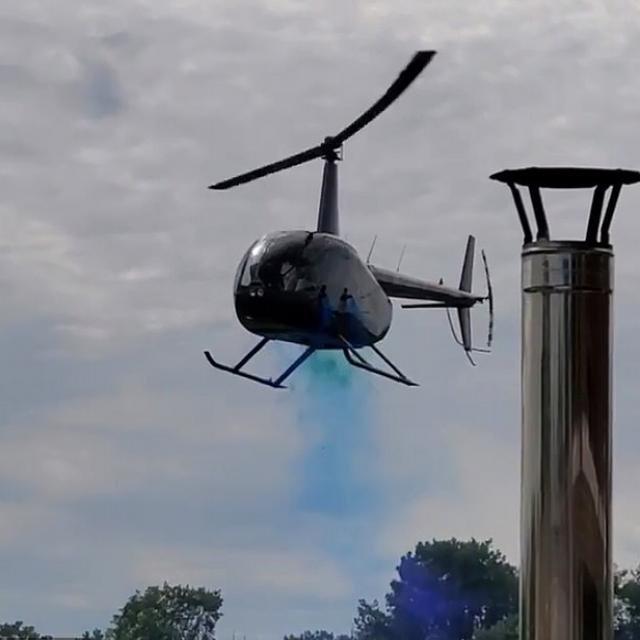helicopter: (186, 30, 506, 410)
